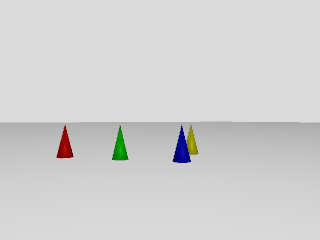blue: (170, 124, 191, 164)
green: (109, 125, 131, 161)
red: (52, 123, 73, 159)
yellow: (187, 124, 202, 154)
